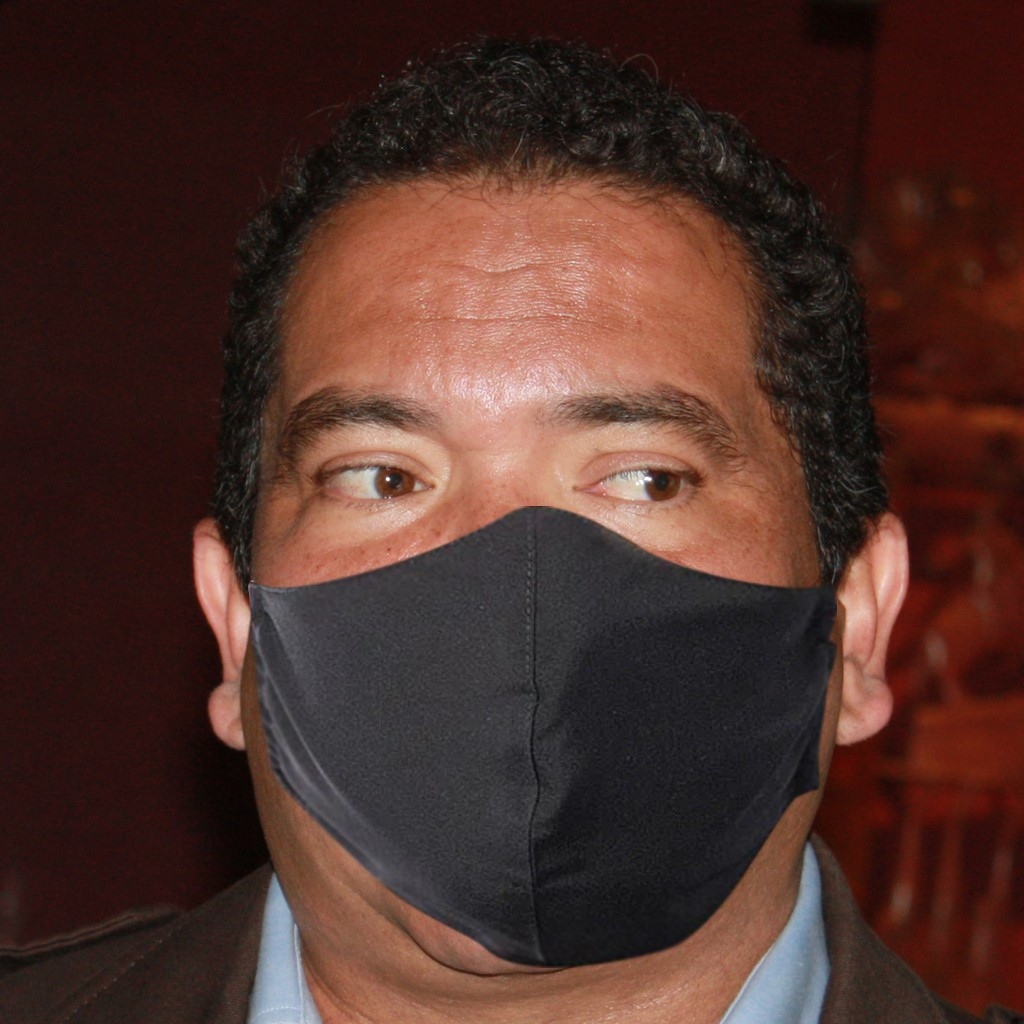con_mascara: (201, 139, 842, 962)
